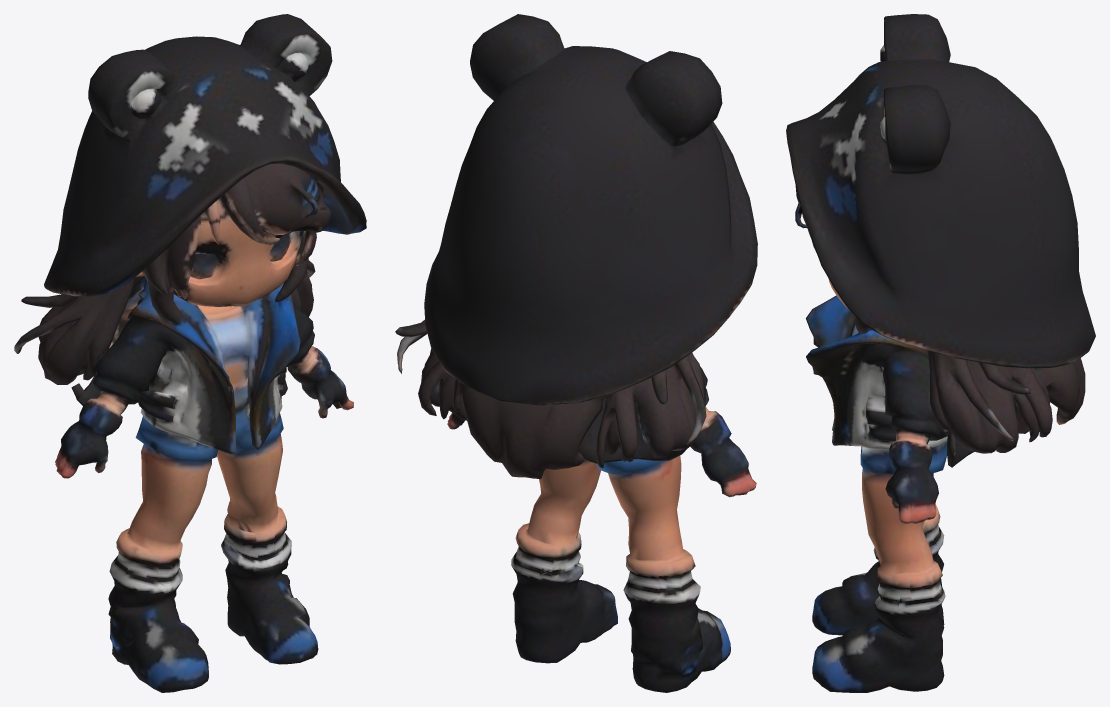
The model's file is hinaly.glb.
The picture shows the model from 3 angles, left to right: view 1: azimuth 30°, elevation 25°; view 2: azimuth 150°, elevation 25°; view 3: azimuth 270°, elevation 25°; orthographic projection. The views are drawn at different scales.
Visible parts, largest first — view 1: tripo_node_b63e9eb8-9f64-4ad0-8f2c-598cb884d6e2; view 2: tripo_node_b63e9eb8-9f64-4ad0-8f2c-598cb884d6e2; view 3: tripo_node_b63e9eb8-9f64-4ad0-8f2c-598cb884d6e2.
Boxes of the visible parts, x1=… form: tripo_node_b63e9eb8-9f64-4ad0-8f2c-598cb884d6e2: x1=14, y1=14, x2=366, y2=692; tripo_node_b63e9eb8-9f64-4ad0-8f2c-598cb884d6e2: x1=395, y1=14, x2=757, y2=692; tripo_node_b63e9eb8-9f64-4ad0-8f2c-598cb884d6e2: x1=786, y1=14, x2=1095, y2=692.
Bounding box in the file's own units: 0.5176 × 0.998 × 0.4629.
Materials: 1 (1 with a texture image).
